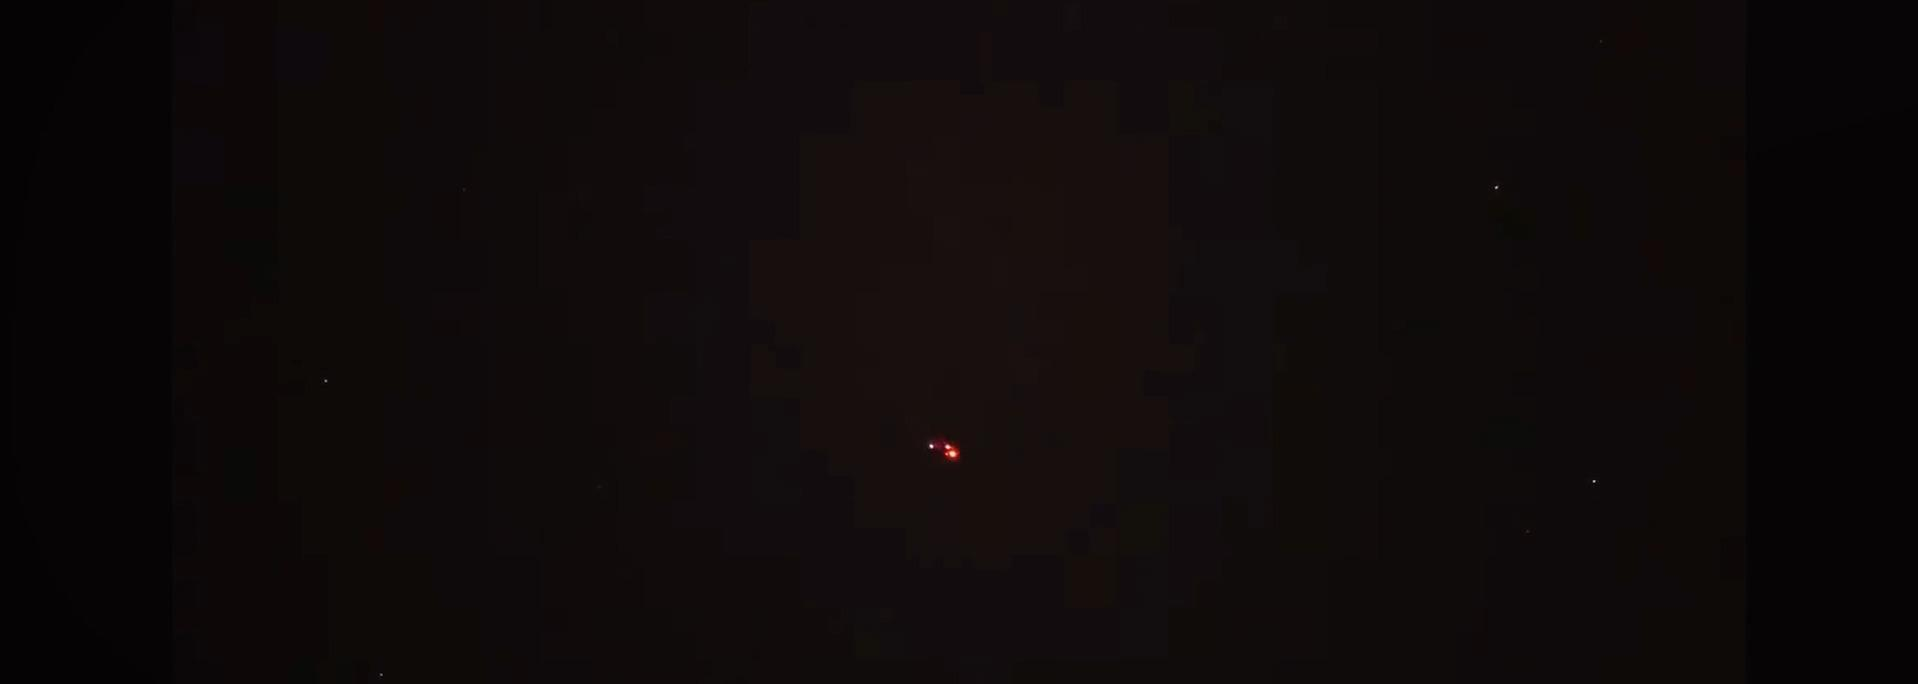Plane: (898, 427, 999, 475)
